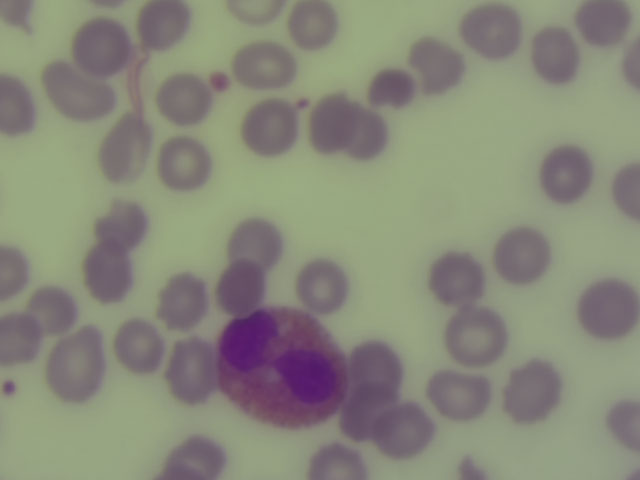Platelets: (206, 69, 232, 98), (1, 376, 20, 399), (294, 93, 313, 111)
RBC: (48, 332, 102, 402), (165, 335, 216, 403), (232, 41, 297, 92), (48, 73, 117, 119), (430, 369, 484, 424), (74, 19, 128, 73), (213, 264, 266, 317), (430, 252, 482, 306), (496, 229, 548, 283), (449, 310, 501, 364), (508, 365, 560, 419), (381, 404, 433, 458), (340, 384, 392, 438), (352, 340, 404, 394), (527, 29, 579, 83), (414, 37, 466, 91), (363, 63, 415, 117), (342, 110, 394, 164), (303, 97, 355, 151), (295, 259, 347, 313), (231, 217, 283, 271), (155, 275, 207, 329), (25, 281, 77, 335), (82, 245, 134, 299), (95, 197, 147, 251), (244, 101, 296, 155), (156, 72, 208, 126), (159, 136, 211, 190), (100, 122, 152, 176), (581, 282, 633, 336), (540, 148, 592, 202), (137, 1, 189, 54), (115, 320, 165, 374), (468, 5, 517, 60), (167, 434, 225, 480), (1, 73, 40, 141), (287, 1, 336, 52), (306, 443, 367, 480), (605, 393, 640, 456), (577, 1, 632, 40), (1, 314, 40, 367), (609, 158, 640, 223), (1, 243, 32, 305), (224, 1, 286, 26)
WBC: (219, 314, 344, 422)
